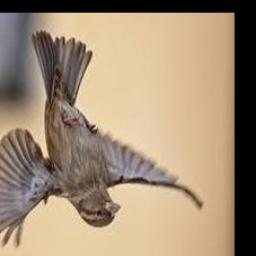Sparrow: (0, 32, 202, 249)
